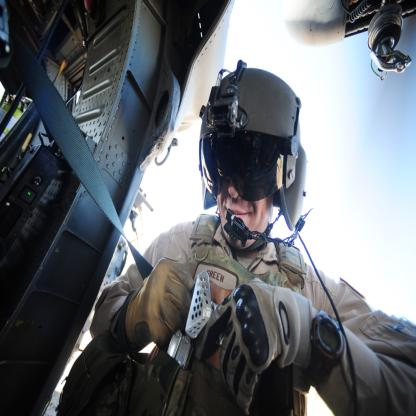Helmet: (198, 56, 309, 254)
